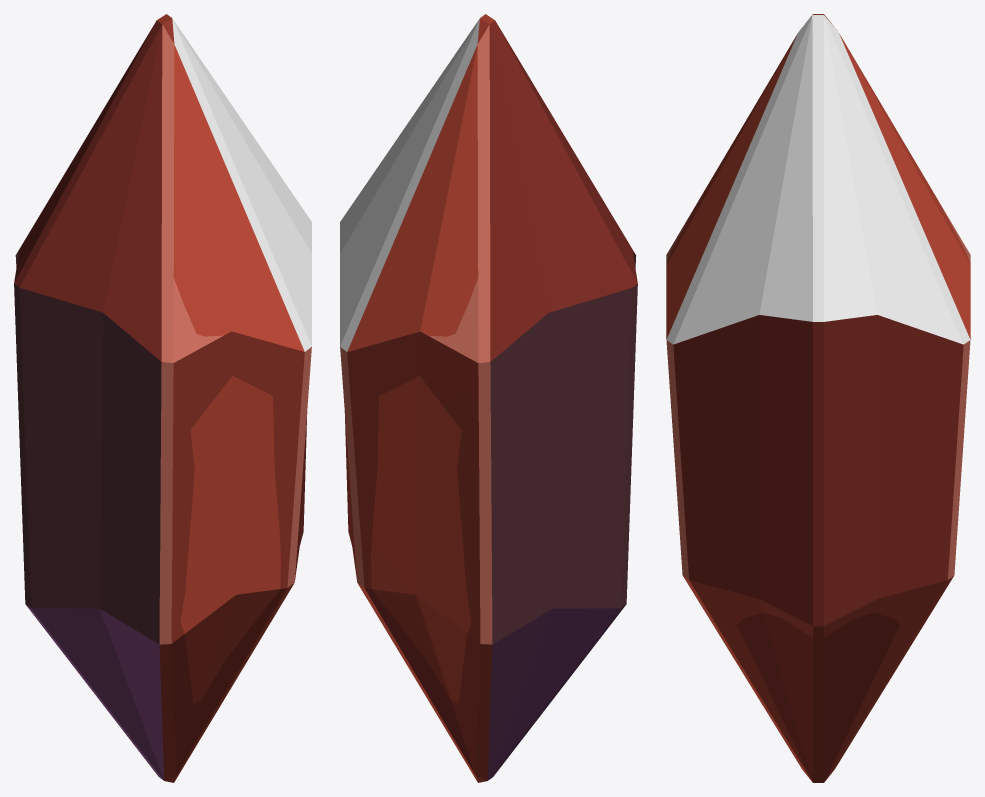
File: SM_Prop_Gem_01.fbx
The picture shows the model from 3 angles, left to right: view 1: azimuth 30°, elevation 25°; view 2: azimuth 150°, elevation 25°; view 3: azimuth 270°, elevation 25°; orthographic projection.
Visible parts, largest first — view 1: SM_Prop_Gem_01; view 2: SM_Prop_Gem_01; view 3: SM_Prop_Gem_01.
Boxes of the visible parts, bbox=[...] form: SM_Prop_Gem_01: bbox=[14, 14, 311, 782]; SM_Prop_Gem_01: bbox=[340, 14, 637, 782]; SM_Prop_Gem_01: bbox=[666, 14, 970, 782].
Bounding box in the file's own units: 52.49 × 131 × 47.16.
Materials: 1 (1 with a texture image).
